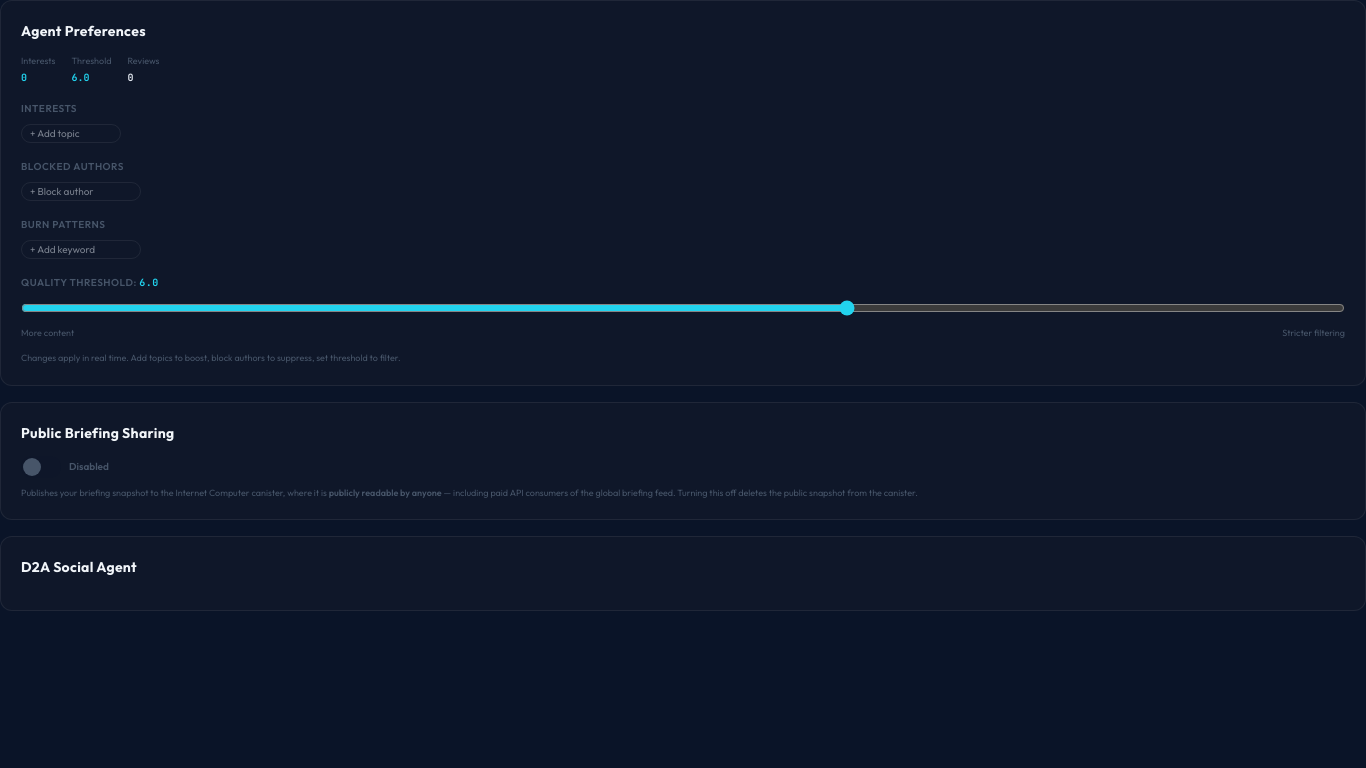
Test: AgentSection — public briefing sharing toggle › aborts the write (no clobber) when the on-chain settings READ fails
This screenshot has width=1366, height=768.
Click the button with test id "aegis-settings-briefing-share-toggle" at (41, 466), box [21,456,61,478]
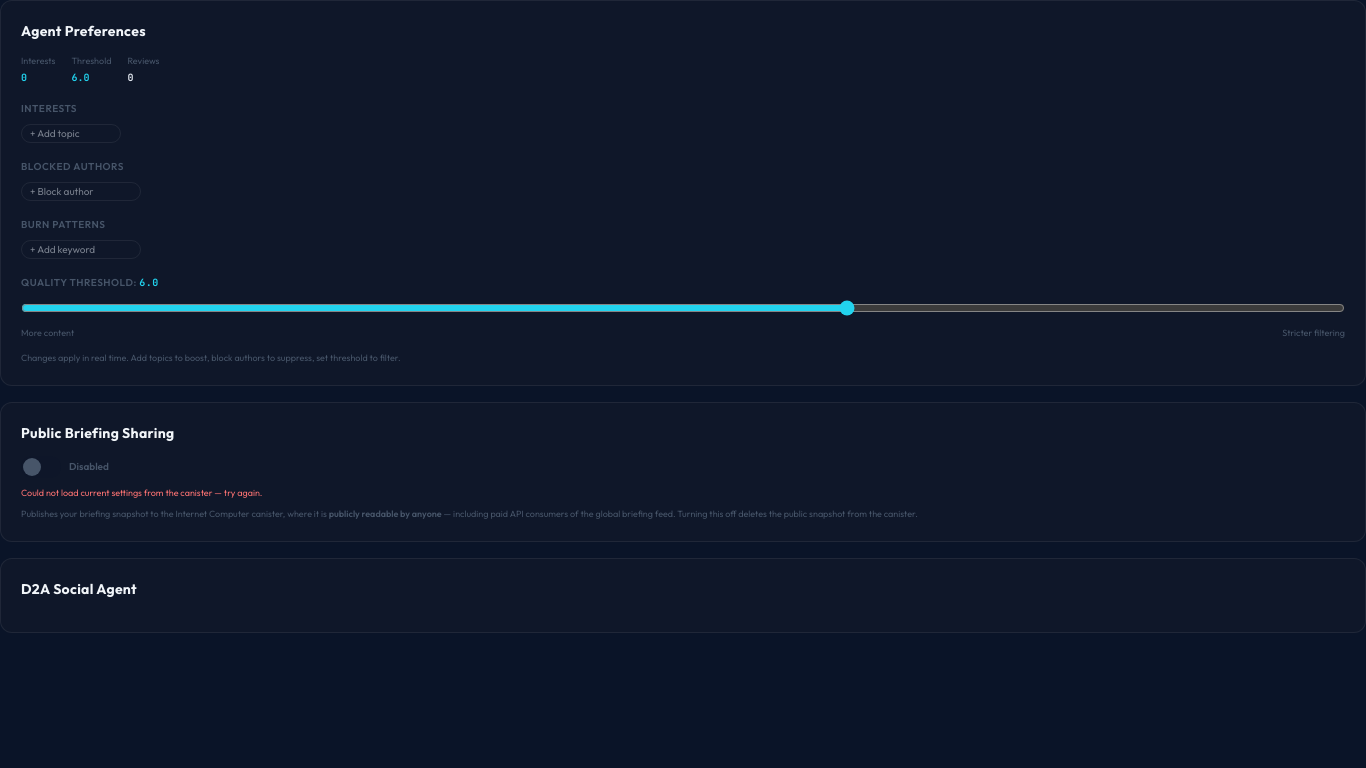
expect the text "Could not load current settings" is shown: met, box [21,486,262,498]
